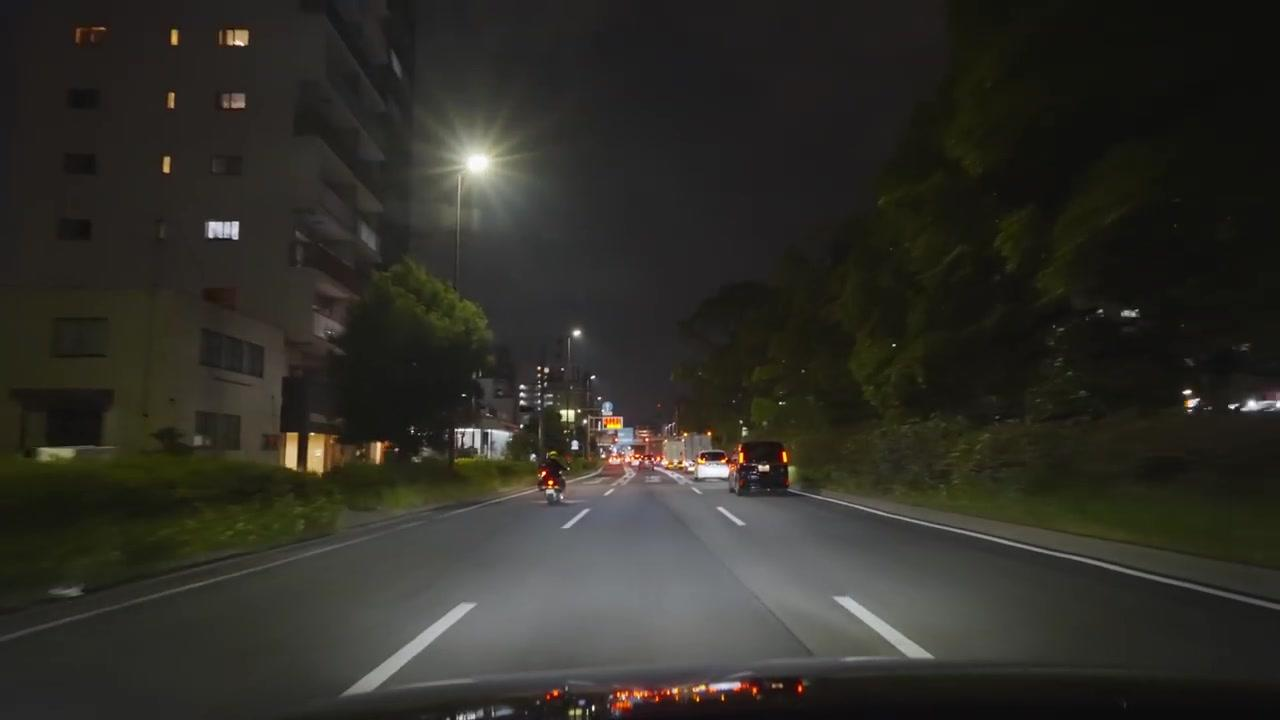car: (694, 449, 729, 479)
motorcycle: (542, 472, 565, 506)
person: (539, 455, 568, 501)
truck: (729, 439, 790, 494)
